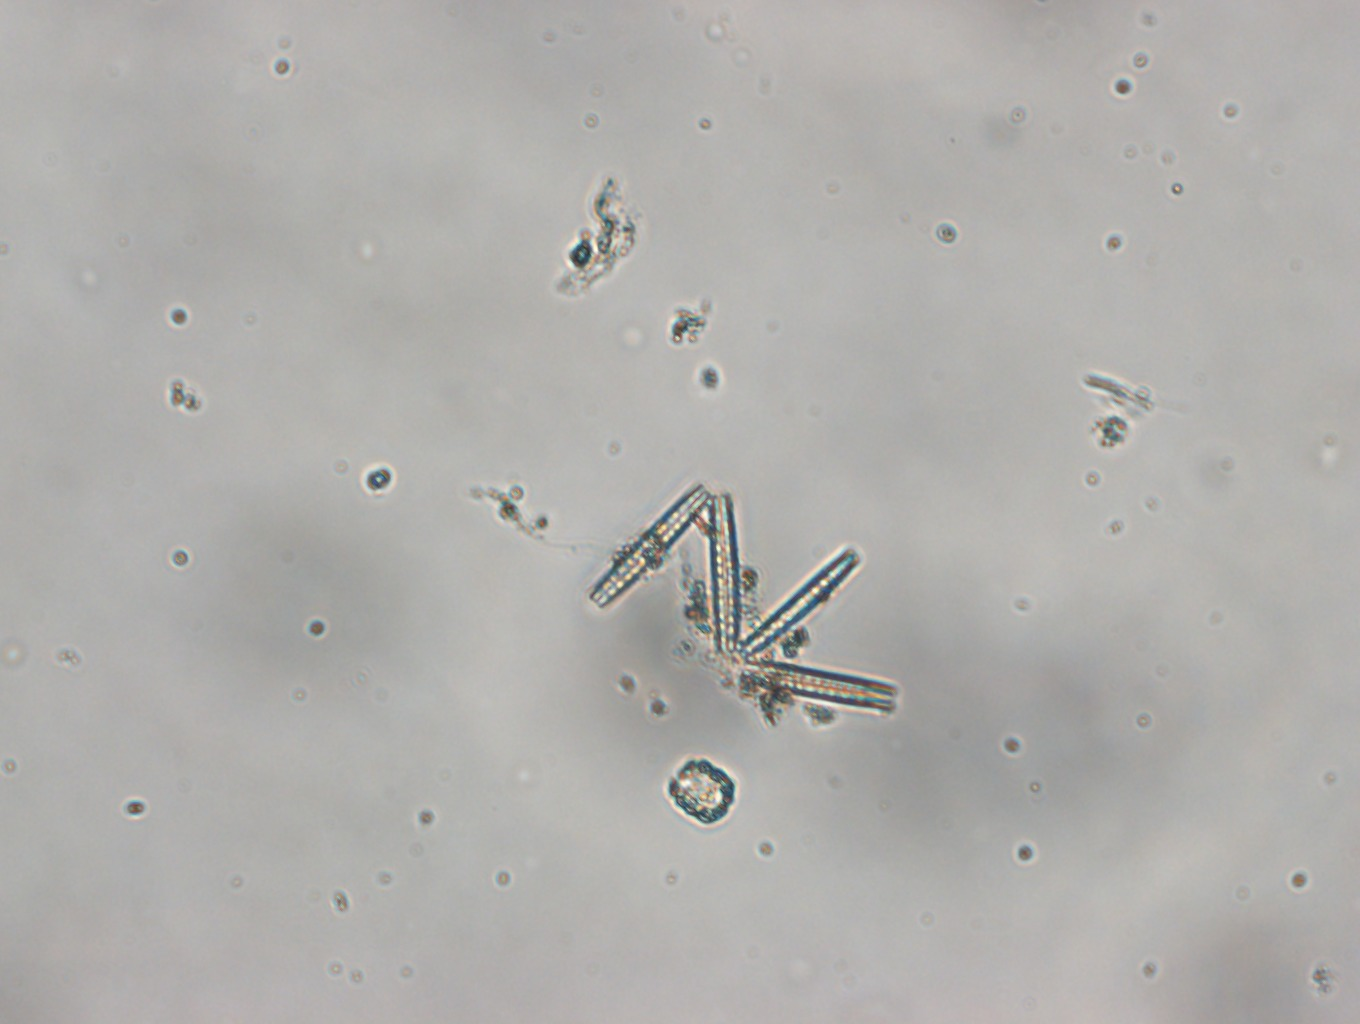thalassionema nitzschioides: (570, 460, 903, 723)
